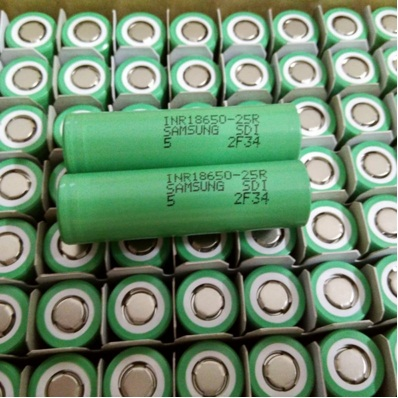Battery: (56, 158, 310, 247), (61, 99, 301, 174)
